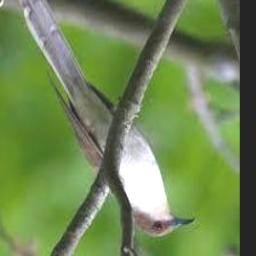Cuckoo: (12, 0, 196, 237)
